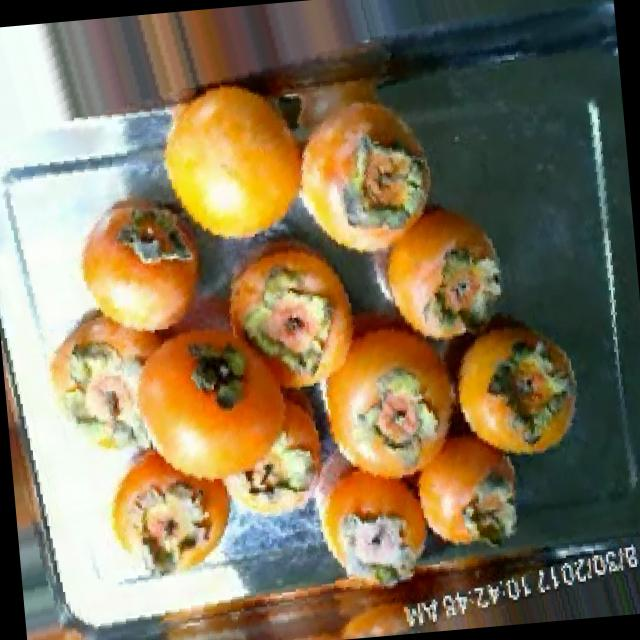Fruit: (134, 57, 326, 266), (86, 425, 250, 603), (438, 298, 588, 478), (366, 188, 514, 362), (31, 9, 217, 146)
